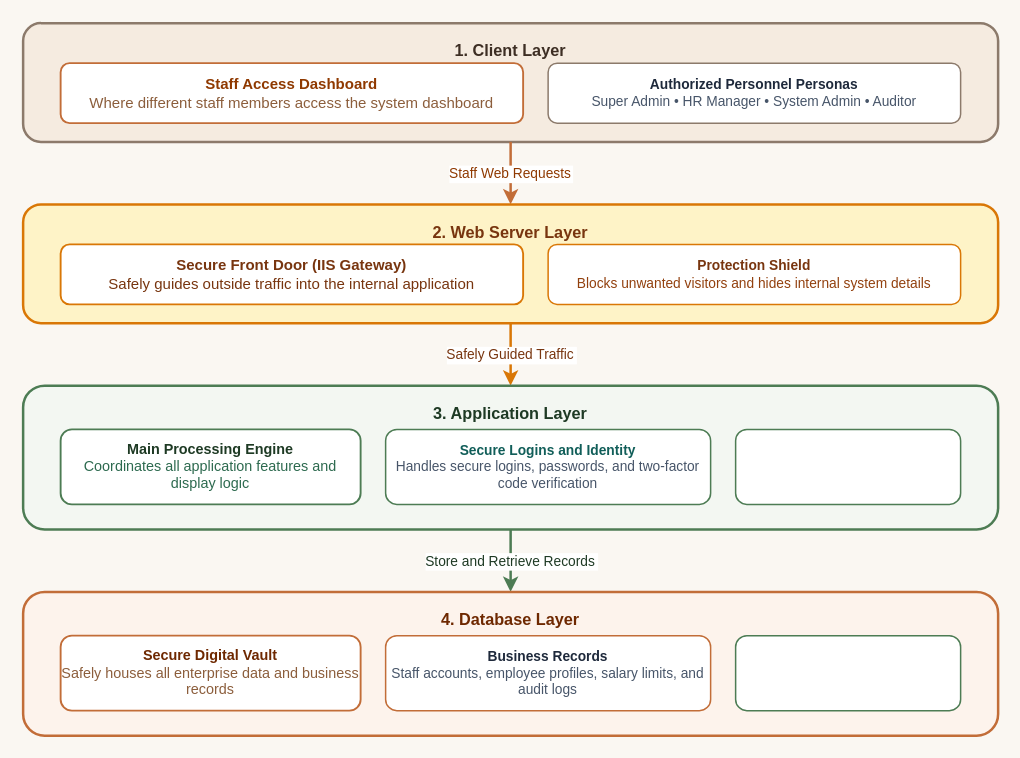
The diagram is 1020 pixels wide and 758 high, and some of its shapes have lost their labels. The centre of each missing label's shape, as x and y in pixels:
"Company Operations Manages employee records, department salaries, and reports" belongs at (847,466).
"Daily Fresh Copy Automatically saves a fresh backup copy of the data every day" belongs at (847,672).
